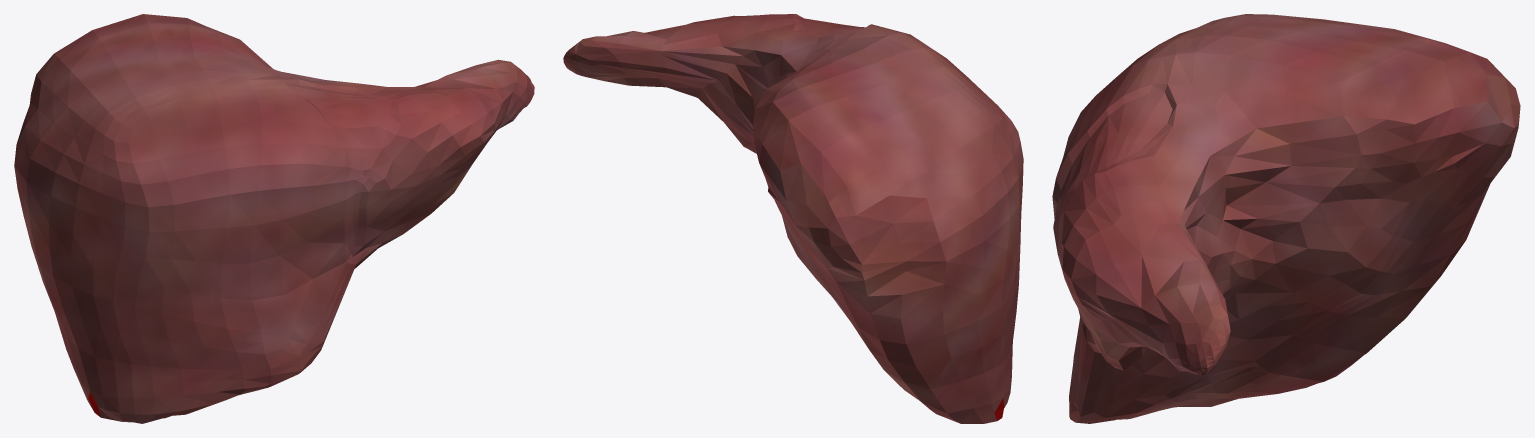
The model's file is liver_nissen_grid.obj.
3 views of the same model, side by side, from view 1: azimuth 30°, elevation 25°; view 2: azimuth 150°, elevation 25°; view 3: azimuth 270°, elevation 25° (orthographic). The views are drawn at different scales.
Parts seen in each view (by area): view 1: liver_nissen_grid_liver.005; view 2: liver_nissen_grid_liver.005; view 3: liver_nissen_grid_liver.005.
Boxes of the visible parts, left/top/right/bottom form: liver_nissen_grid_liver.005: left=14, top=14, right=534, bottom=423; liver_nissen_grid_liver.005: left=563, top=14, right=1023, bottom=423; liver_nissen_grid_liver.005: left=1052, top=14, right=1520, bottom=423.
Bounding box in the file's own units: 20.7 × 14.05 × 13.84.
